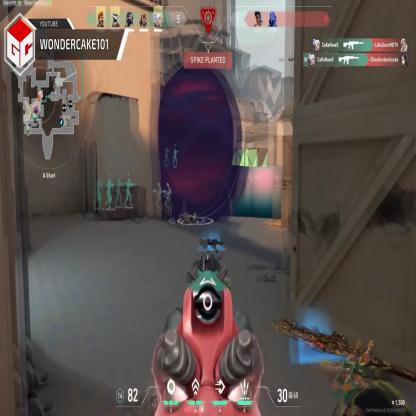enemy: (164, 182, 172, 219)
enemy_head: (166, 183, 170, 190)
